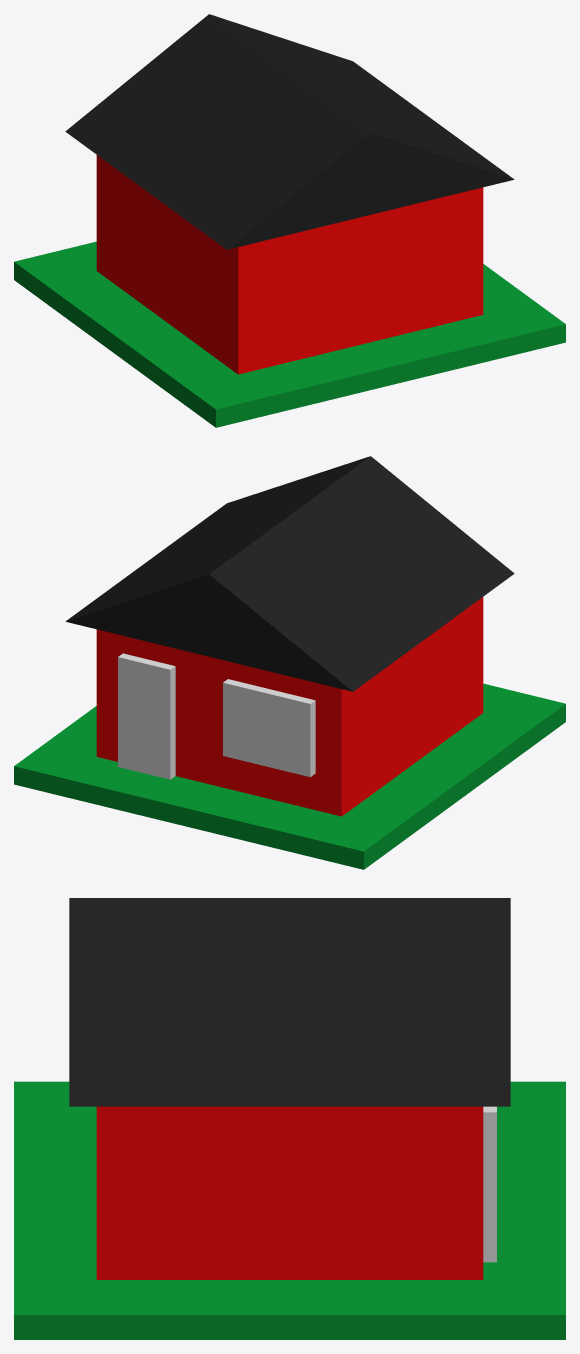
The model's file is house1.fbx.
3 renders of one model, top to bottom at view 1: azimuth 30°, elevation 25°; view 2: azimuth 150°, elevation 25°; view 3: azimuth 270°, elevation 25°, orthographic. The views are drawn at different scales.
Visible parts, largest first — view 1: Cylinder, Cube, Cube.001; view 2: Cylinder, Cube, Cube.001, Cube.003, Cube.002; view 3: Cylinder, Cube, Cube.001, Cube.002.
Boxes of the visible parts, x1=… form: Cylinder: x1=65, y1=14, x2=514, y2=249; Cube: x1=96, y1=155, x2=483, y2=374; Cube.001: x1=14, y1=241, x2=565, y2=427; Cylinder: x1=65, y1=456, x2=514, y2=691; Cube: x1=96, y1=597, x2=483, y2=816; Cube.001: x1=14, y1=683, x2=565, y2=869; Cube.003: x1=223, y1=679, x2=315, y2=777; Cube.002: x1=118, y1=653, x2=175, y2=779; Cylinder: x1=69, y1=898, x2=510, y2=1106; Cube: x1=96, y1=1106, x2=483, y2=1279; Cube.001: x1=14, y1=1081, x2=565, y2=1339; Cube.002: x1=483, y1=1106, x2=496, y2=1262.
Size of the model in its own units: 200 by 130 by 200.
